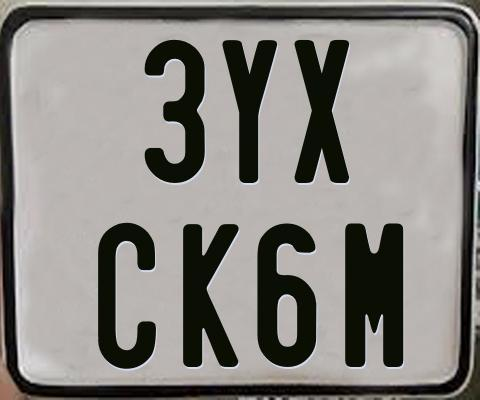3: (143, 39, 206, 184)
6: (254, 222, 319, 366)
C: (98, 220, 158, 367)
K: (181, 223, 239, 366)
M: (345, 223, 407, 370)
X: (292, 40, 352, 186)
Y: (220, 39, 277, 188)
